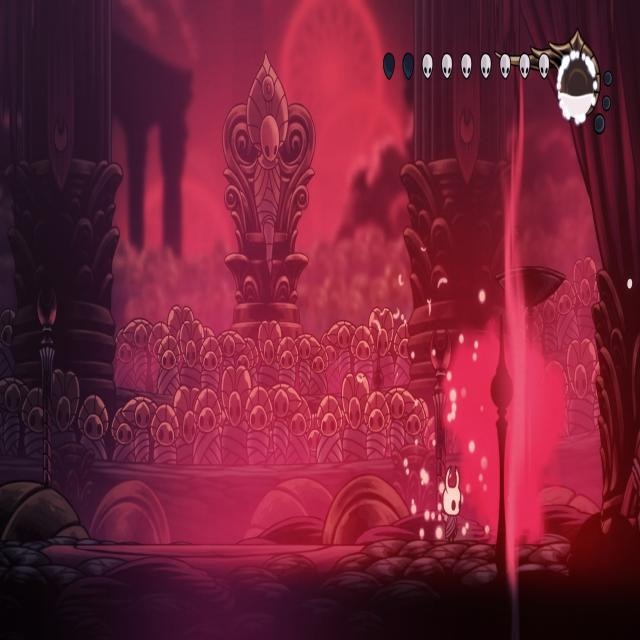Player: (436, 460, 466, 544)
